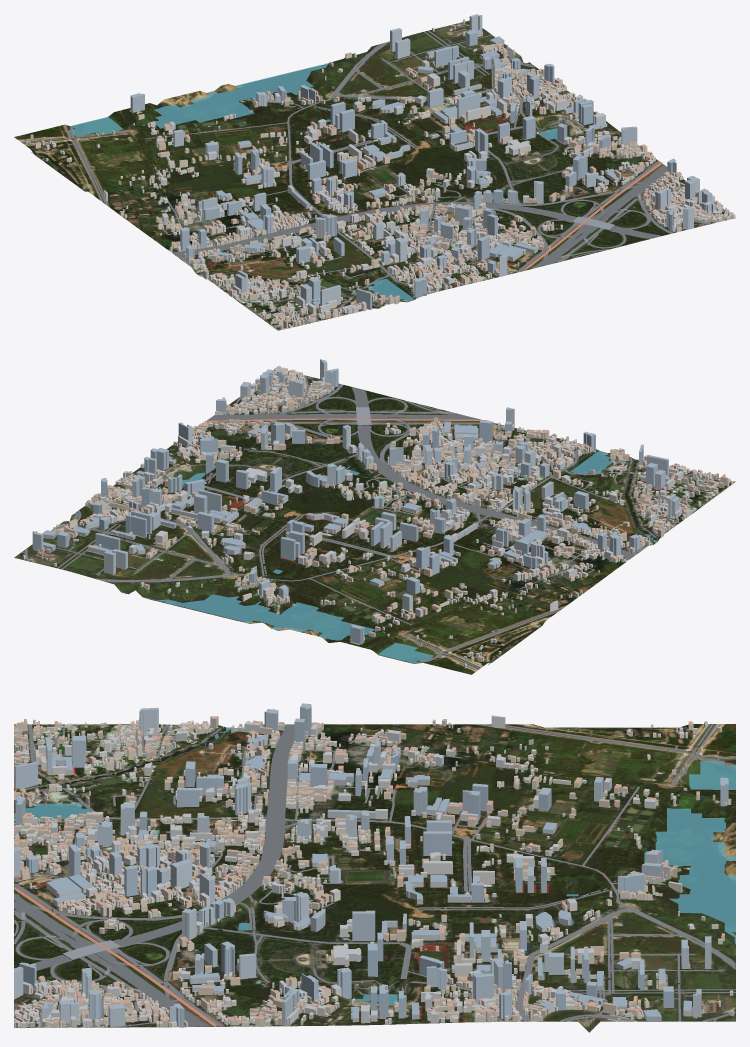
3 views of the same model, one above another, from view 1: azimuth 30°, elevation 25°; view 2: azimuth 150°, elevation 25°; view 3: azimuth 270°, elevation 25° (orthographic). The views are drawn at different scales.
Parts seen in each view (by area): view 1: TERRAIN, BLDG_MODERN_TOWER, BLDG_SHOPHOUSE, BLDG_TUBE_HOUSE, ROAD_METRO, BLDG_APARTMENT, BLDG_INDUSTRIAL_PORT, WATER; view 2: TERRAIN, BLDG_MODERN_TOWER, BLDG_SHOPHOUSE, BLDG_TUBE_HOUSE, ROAD_METRO, BLDG_APARTMENT, WATER, BLDG_INDUSTRIAL_PORT; view 3: TERRAIN, BLDG_MODERN_TOWER, BLDG_SHOPHOUSE, BLDG_TUBE_HOUSE, ROAD_METRO, BLDG_APARTMENT, BLDG_INDUSTRIAL_PORT, WATER.
Part boxes in pixels (x1,y1,x2,y2): TERRAIN: [14, 20, 735, 330]; BLDG_MODERN_TOWER: [130, 14, 715, 309]; BLDG_SHOPHOUSE: [34, 42, 726, 327]; BLDG_TUBE_HOUSE: [26, 19, 735, 329]; ROAD_METRO: [21, 23, 724, 326]; BLDG_APARTMENT: [104, 60, 719, 315]; BLDG_INDUSTRIAL_PORT: [210, 29, 619, 307]; WATER: [31, 63, 557, 308]; TERRAIN: [14, 371, 735, 674]; BLDG_MODERN_TOWER: [32, 359, 679, 644]; BLDG_SHOPHOUSE: [55, 368, 728, 661]; BLDG_TUBE_HOUSE: [22, 365, 733, 668]; ROAD_METRO: [21, 375, 730, 669]; BLDG_APARTMENT: [94, 371, 685, 621]; WATER: [121, 451, 657, 665]; BLDG_INDUSTRIAL_PORT: [42, 422, 669, 586]; TERRAIN: [14, 724, 735, 1032]; BLDG_MODERN_TOWER: [14, 703, 728, 1027]; BLDG_SHOPHOUSE: [14, 716, 724, 1027]; BLDG_TUBE_HOUSE: [14, 719, 734, 1028]; ROAD_METRO: [14, 724, 735, 1027]; BLDG_APARTMENT: [14, 715, 655, 1027]; BLDG_INDUSTRIAL_PORT: [46, 734, 691, 1022]; WATER: [14, 727, 735, 1004].
Size of the model in its own units: 2000 by 119 by 2000.
8 materials, 1 textured.
